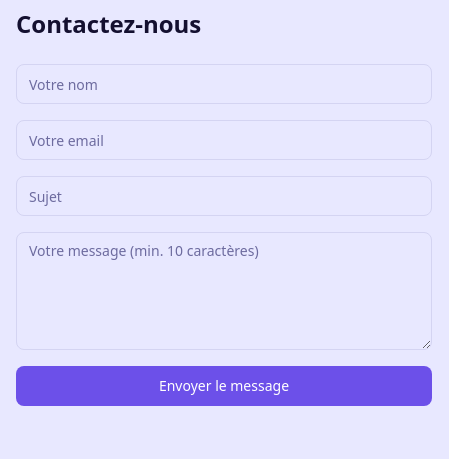
Test: ContactPage › affiche une erreur rate limit traduite
Step 1. Type "Jean" into the field with placeholder "Votre nom" → (224,84), box [16,64,432,104]
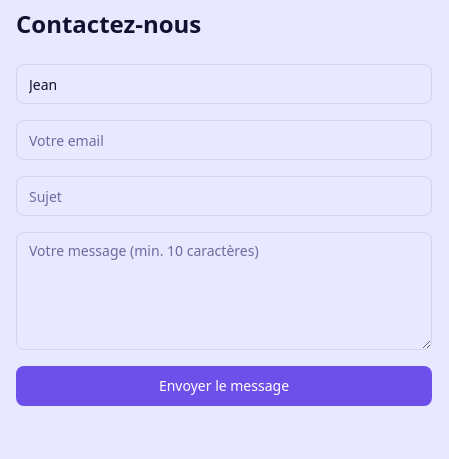
Step 2. Type "jean@test.com" into the field with placeholder "Votre email" → (224,140), box [16,120,432,160]
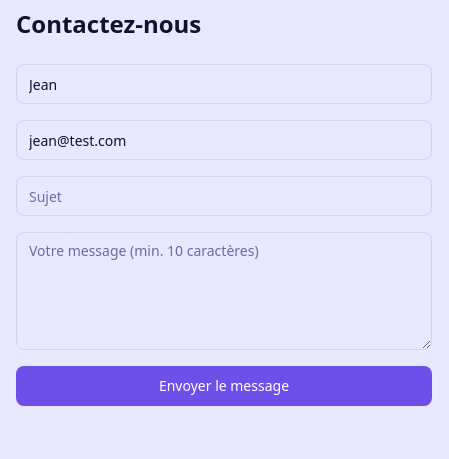
Step 3. Type "Question" into the field with placeholder "Sujet" → (224,196), box [16,176,432,216]
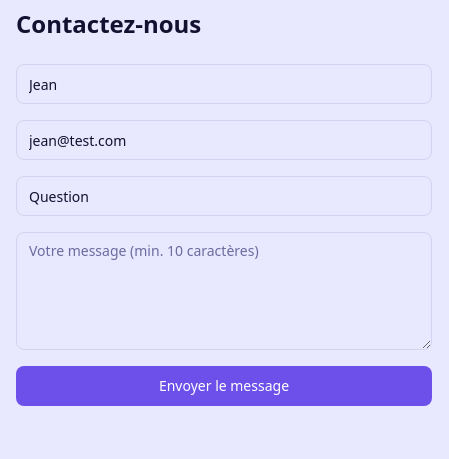
Step 4. Type "Bonjour, ceci est un message de test." into the text box with placeholder "Votre message (min. 10 caractères)" → (224,291), box [16,232,432,350]
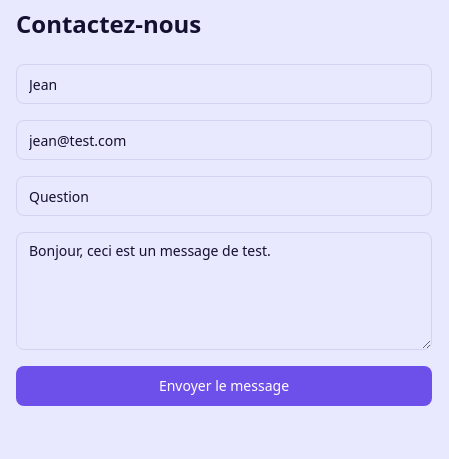
Step 5. Click the button "Envoyer le message" → (224,386), box [16,366,432,406]
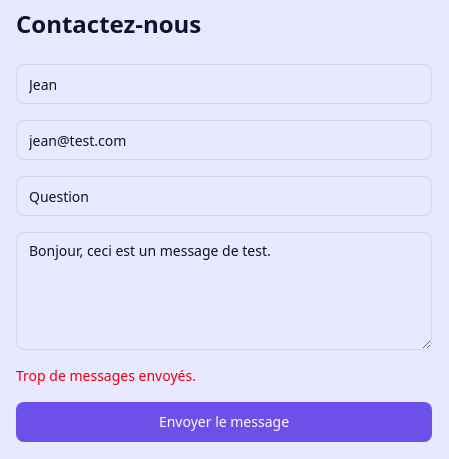
Result: the text "Trop de messages envoyés." is shown at [16,366,196,385]
